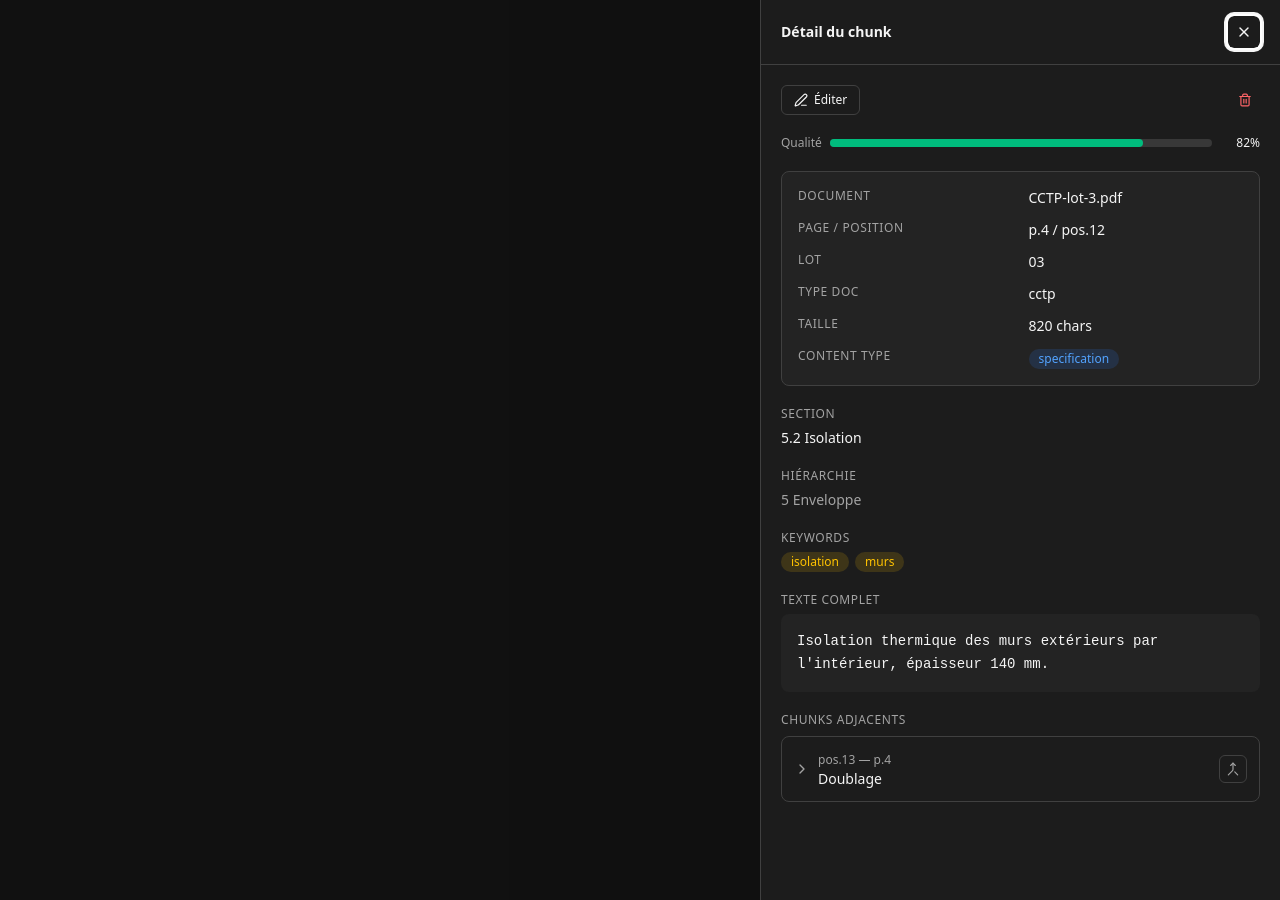
Test: ChunkDetail — the panel says what failed and never fakes a success › shows a failed merge next to the merge button, not off-screen at the top of the panel
The width and height of the screenshot is (1280, 900).
Click the button named "Fusionner".
click(1233, 768)  # box [1219, 754, 1247, 782]
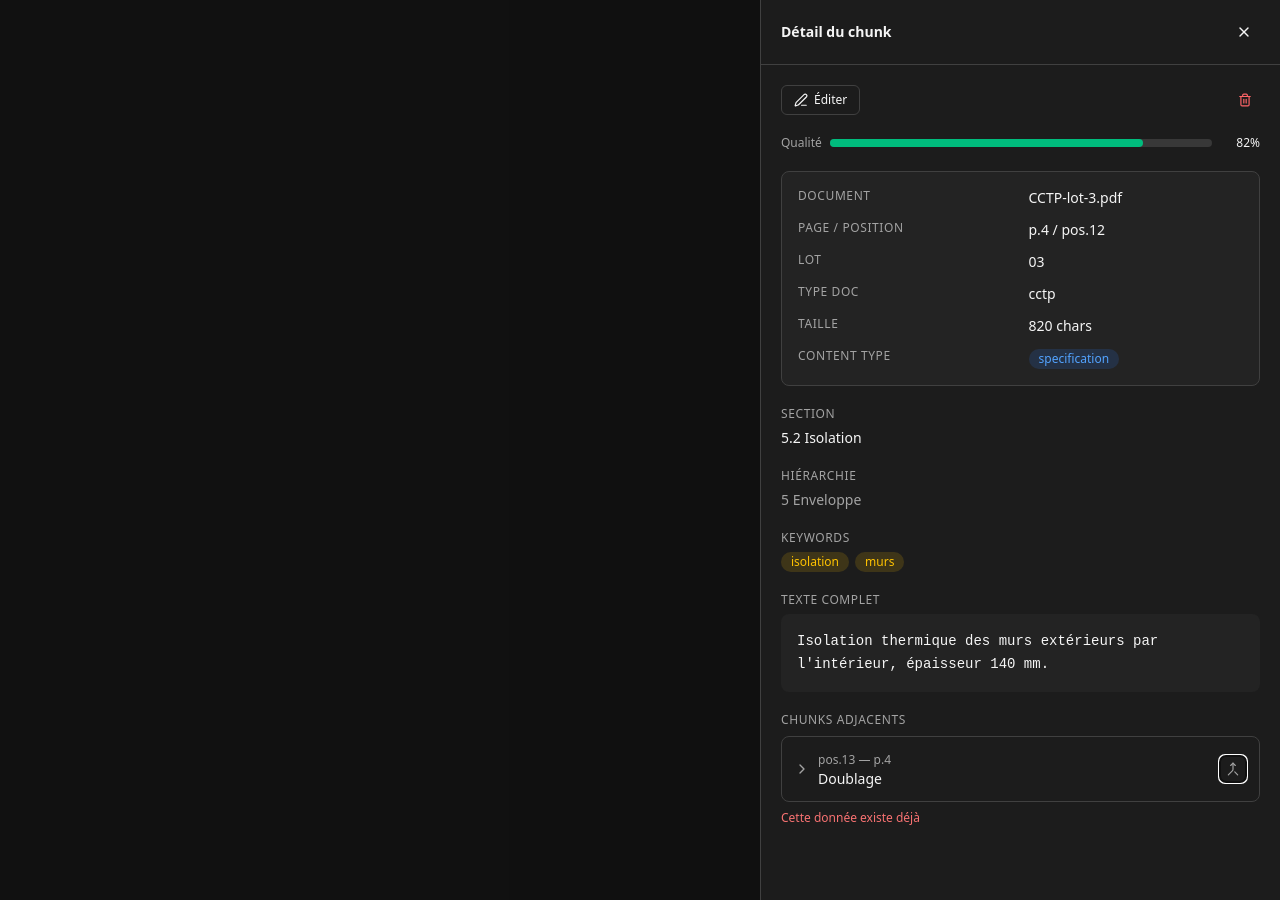
Check: the message reads "Cette donnée existe déjà", box [781, 808, 920, 826]
